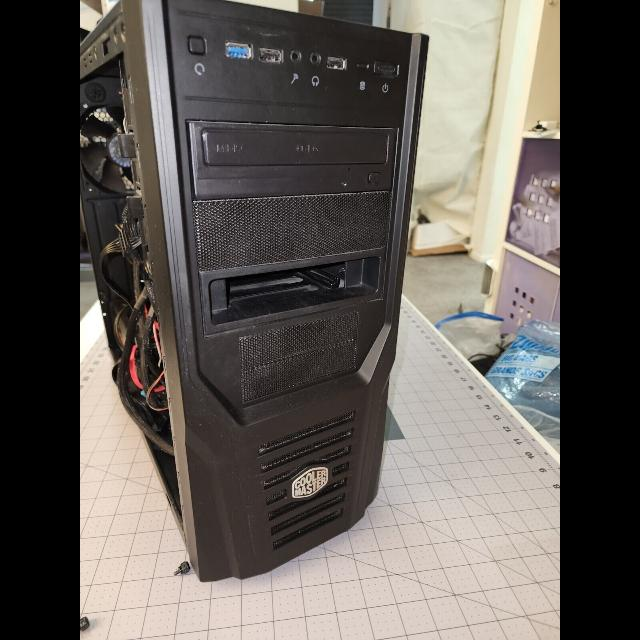Desktop-PC: (80, 0, 434, 594)
